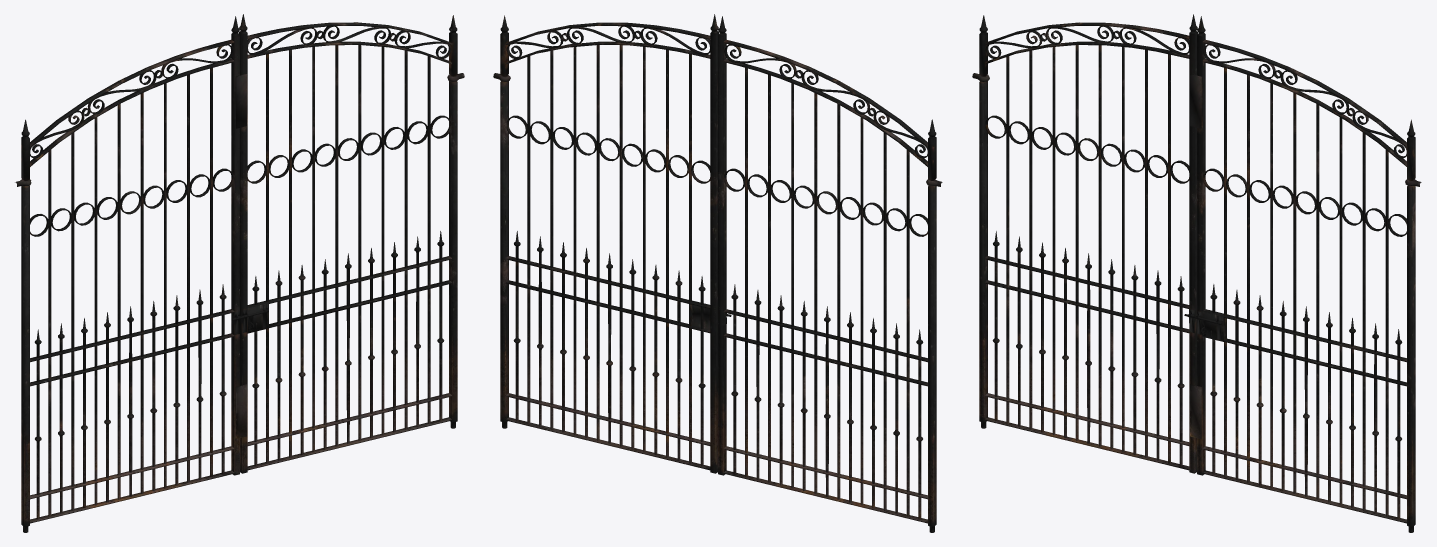
The model's file is large_iron_gate.glb.
The picture shows the model from 3 angles, left to right: view 1: azimuth 30°, elevation 25°; view 2: azimuth 150°, elevation 25°; view 3: azimuth 330°, elevation 25°; orthographic projection.
Visible parts, largest first — view 1: large_iron_gate_right_door, large_iron_gate_left_door; view 2: large_iron_gate_left_door, large_iron_gate_right_door; view 3: large_iron_gate_right_door, large_iron_gate_left_door.
Boxes of the visible parts, box(x1,y1,x2,y2) form: large_iron_gate_right_door: box(235, 14, 457, 473); large_iron_gate_left_door: box(21, 16, 240, 532); large_iron_gate_left_door: box(718, 16, 936, 532); large_iron_gate_right_door: box(500, 14, 718, 473); large_iron_gate_right_door: box(1190, 16, 1415, 532); large_iron_gate_left_door: box(979, 14, 1197, 473).
Size of the model in its own units: 2.95 by 2.93 by 0.0973.
1 material, 1 textured.
